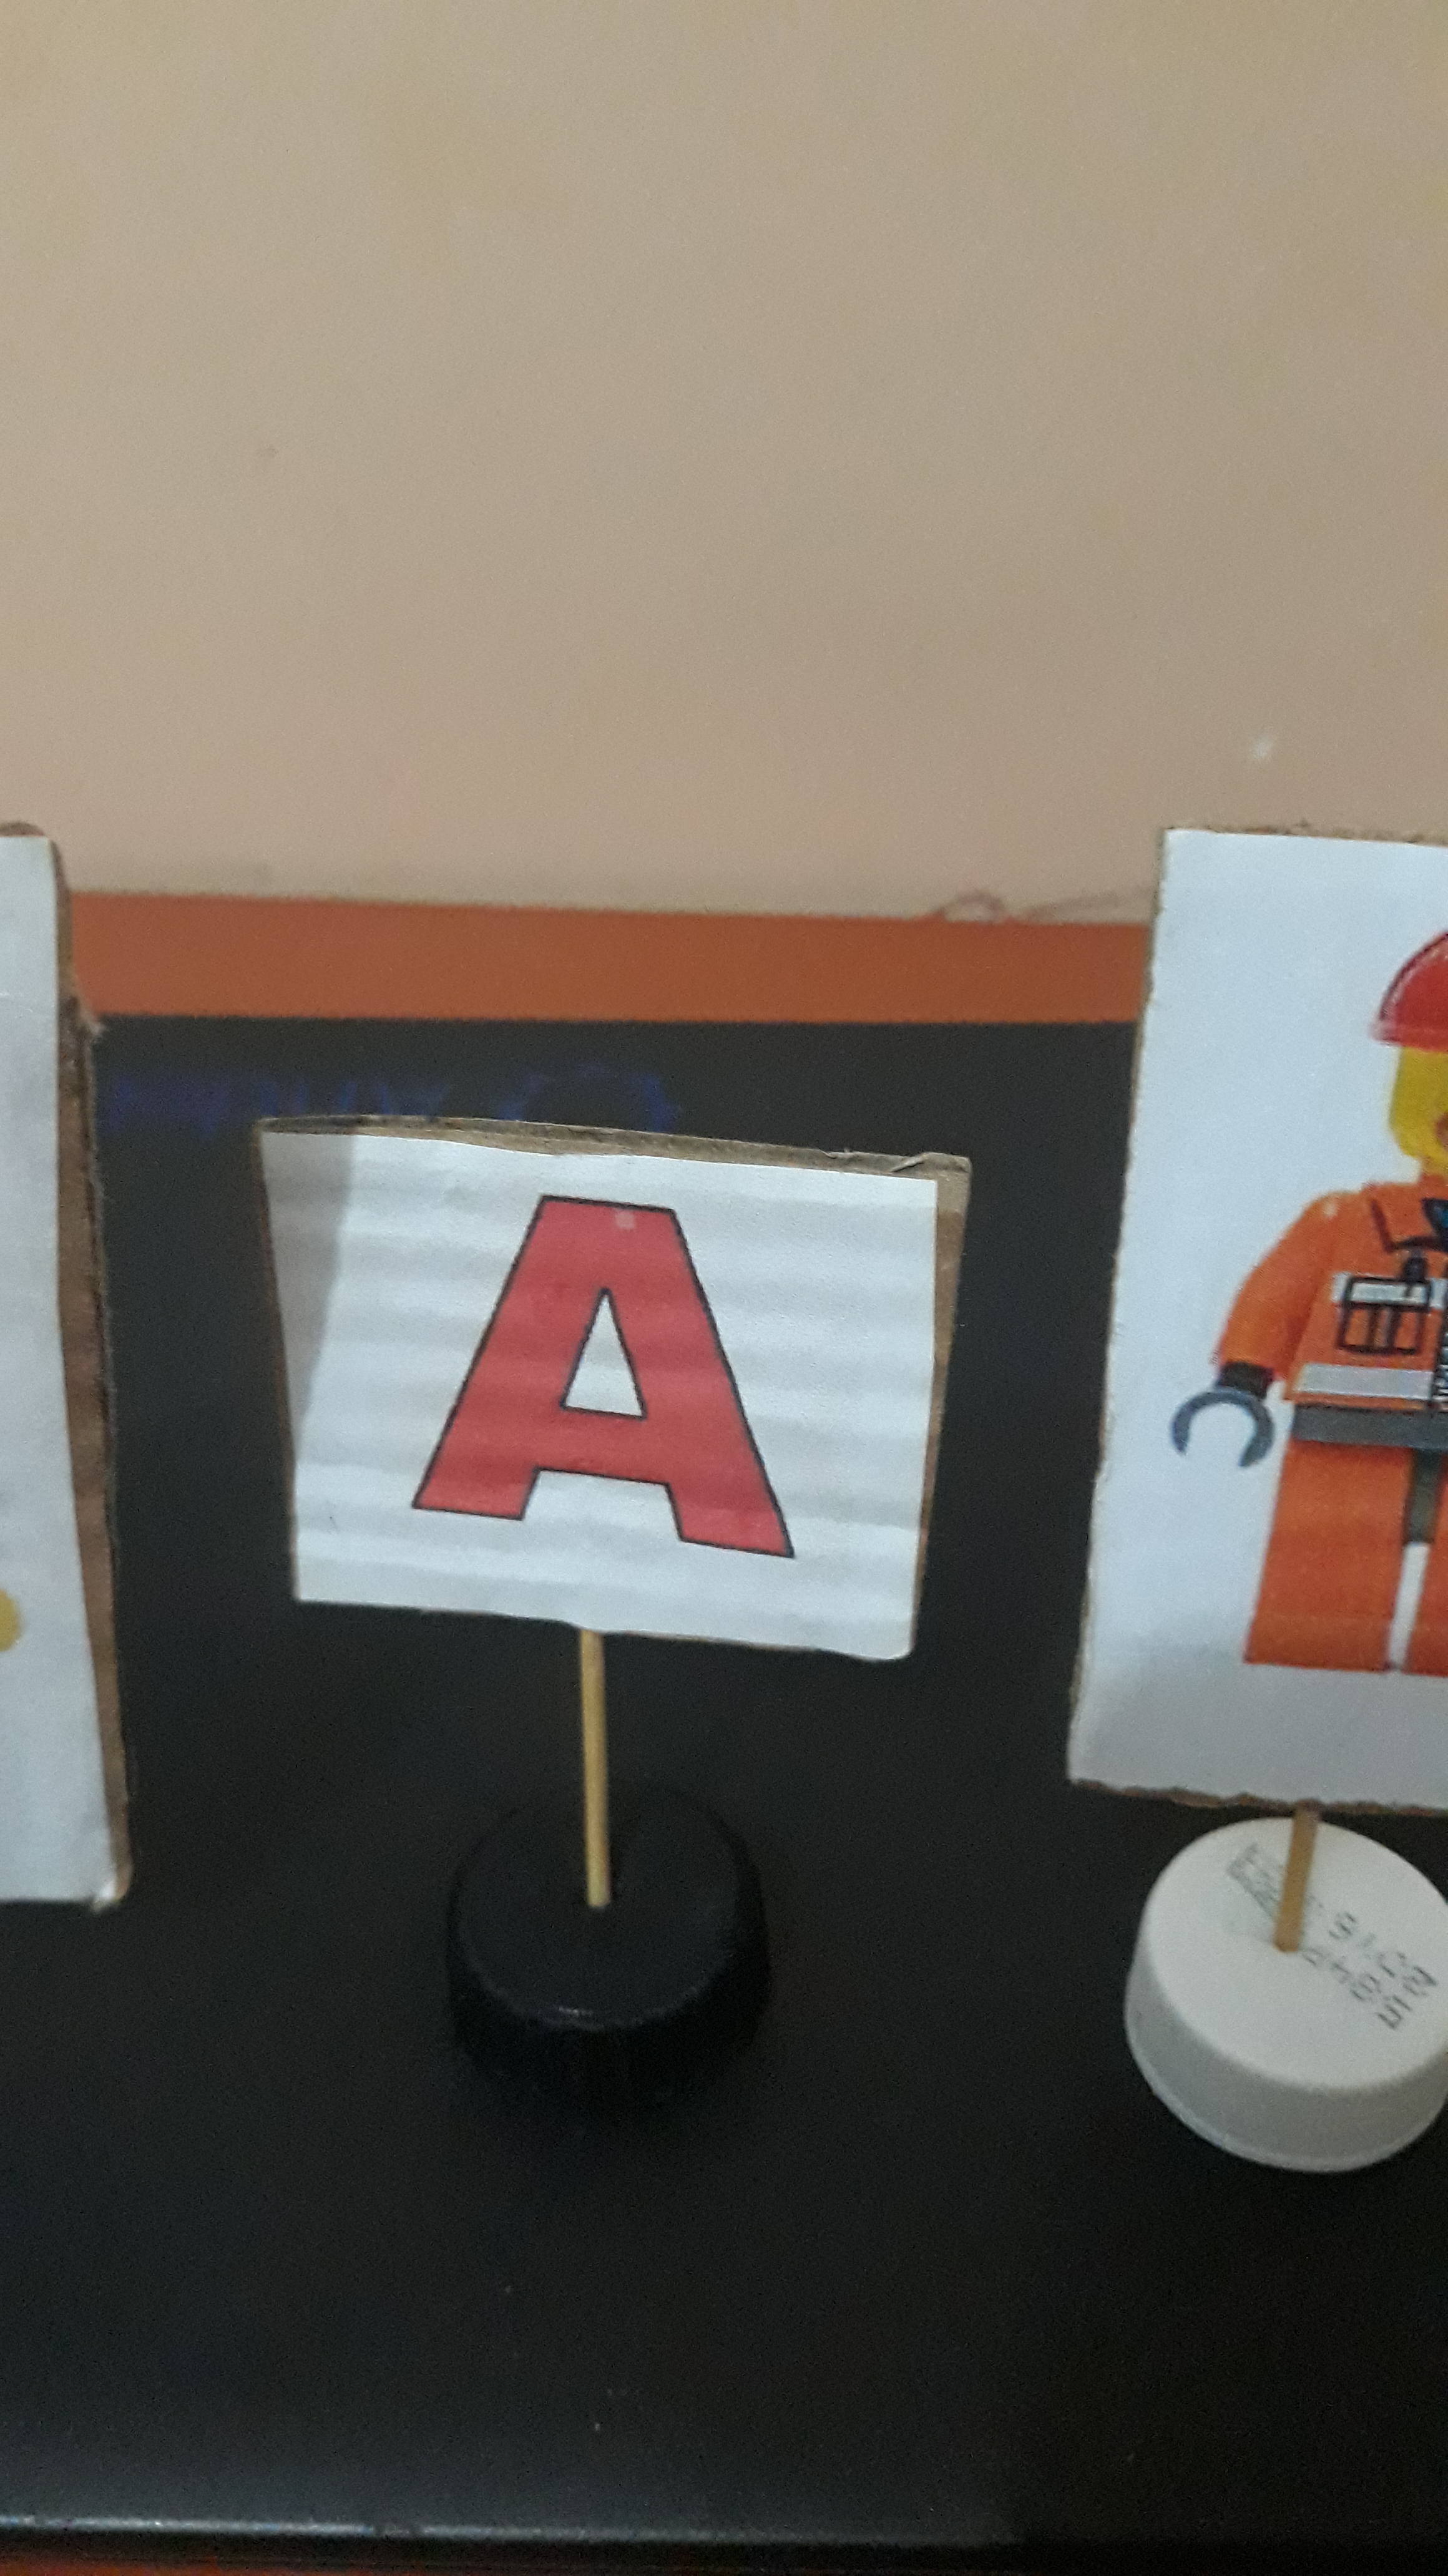pedestrian: (1185, 859, 1448, 1768)
zone A: (330, 1151, 853, 1619)
